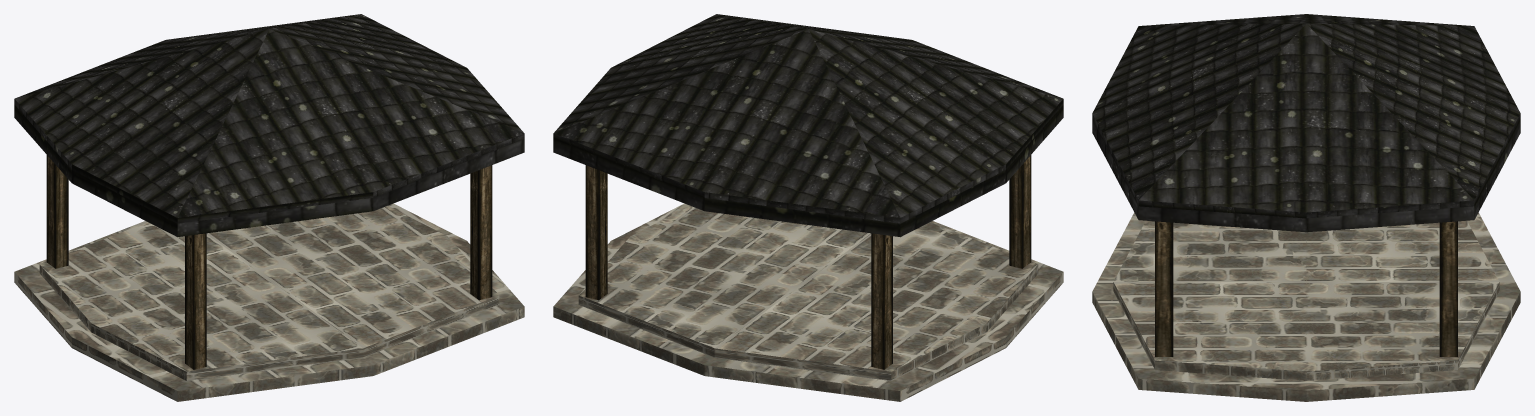
File: gazeebo.glb
3 views of the same model, side by side, from view 1: azimuth 30°, elevation 25°; view 2: azimuth 150°, elevation 25°; view 3: azimuth 270°, elevation 25° (orthographic). The views are drawn at different scales.
Parts seen in each view (by area): view 1: Gazeebo; view 2: Gazeebo; view 3: Gazeebo.
Part boxes in pixels (bbox=[...]): Gazeebo: bbox=[14, 14, 524, 401]; Gazeebo: bbox=[553, 14, 1063, 401]; Gazeebo: bbox=[1092, 14, 1520, 401].
Size of the model in its own units: 4.25 by 2.79 by 3.87.
Materials: 1 (1 with a texture image).
